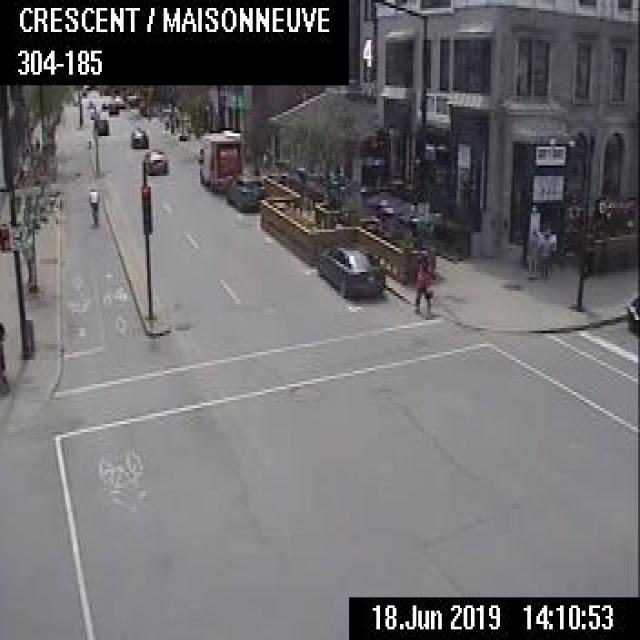cyclist: (87, 185, 99, 226)
pedestrian: (409, 240, 433, 312), (538, 229, 553, 278), (526, 222, 538, 275)
vehicle: (314, 243, 384, 296), (197, 131, 242, 189), (225, 172, 262, 210), (141, 147, 167, 173), (624, 296, 638, 336), (130, 126, 148, 146), (92, 115, 108, 133)
